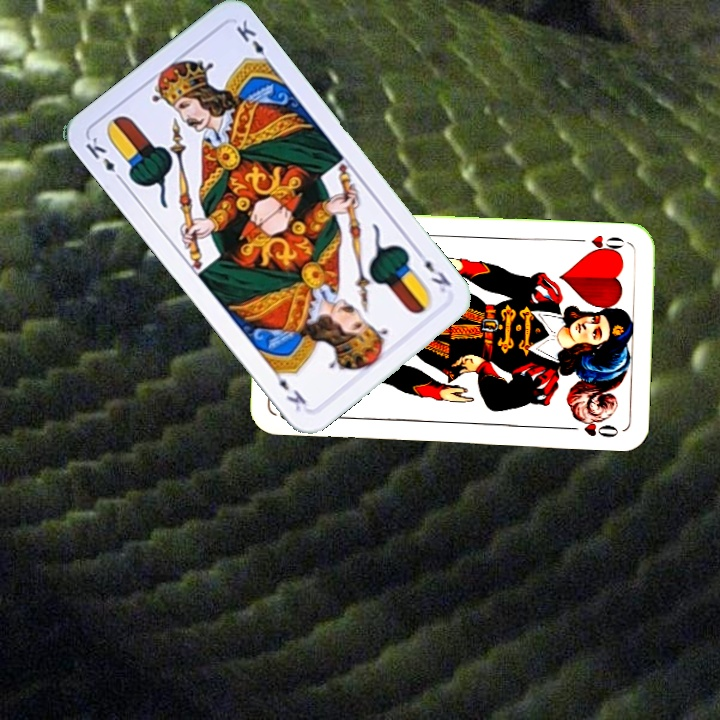EK: (81, 132, 127, 186), (412, 246, 454, 296)
HO: (571, 231, 626, 256)
